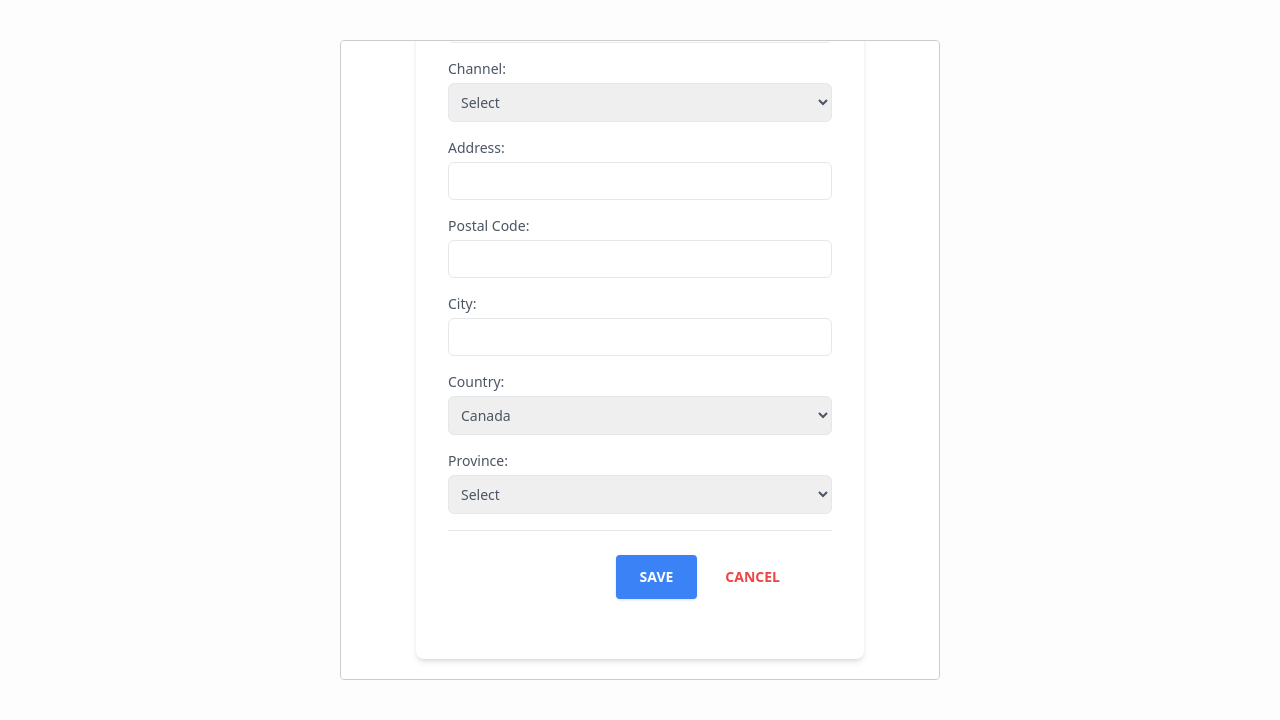
CustomerForm Component › Verify validation errors for email and name
(page scrolled)
Click the button "Save": point(656, 577) x1=616 y1=555 x2=697 y2=599
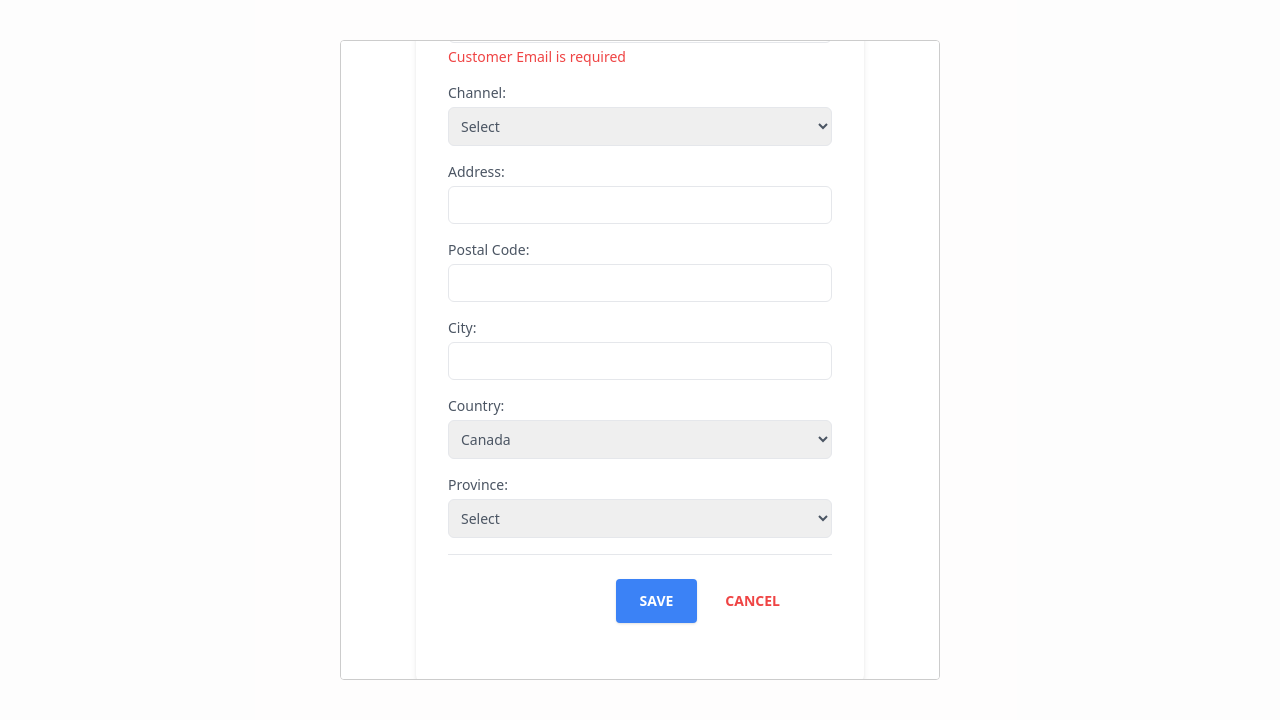
Expected: the text "Customer Email is required" is shown, x1=448 y1=47 x2=626 y2=66
